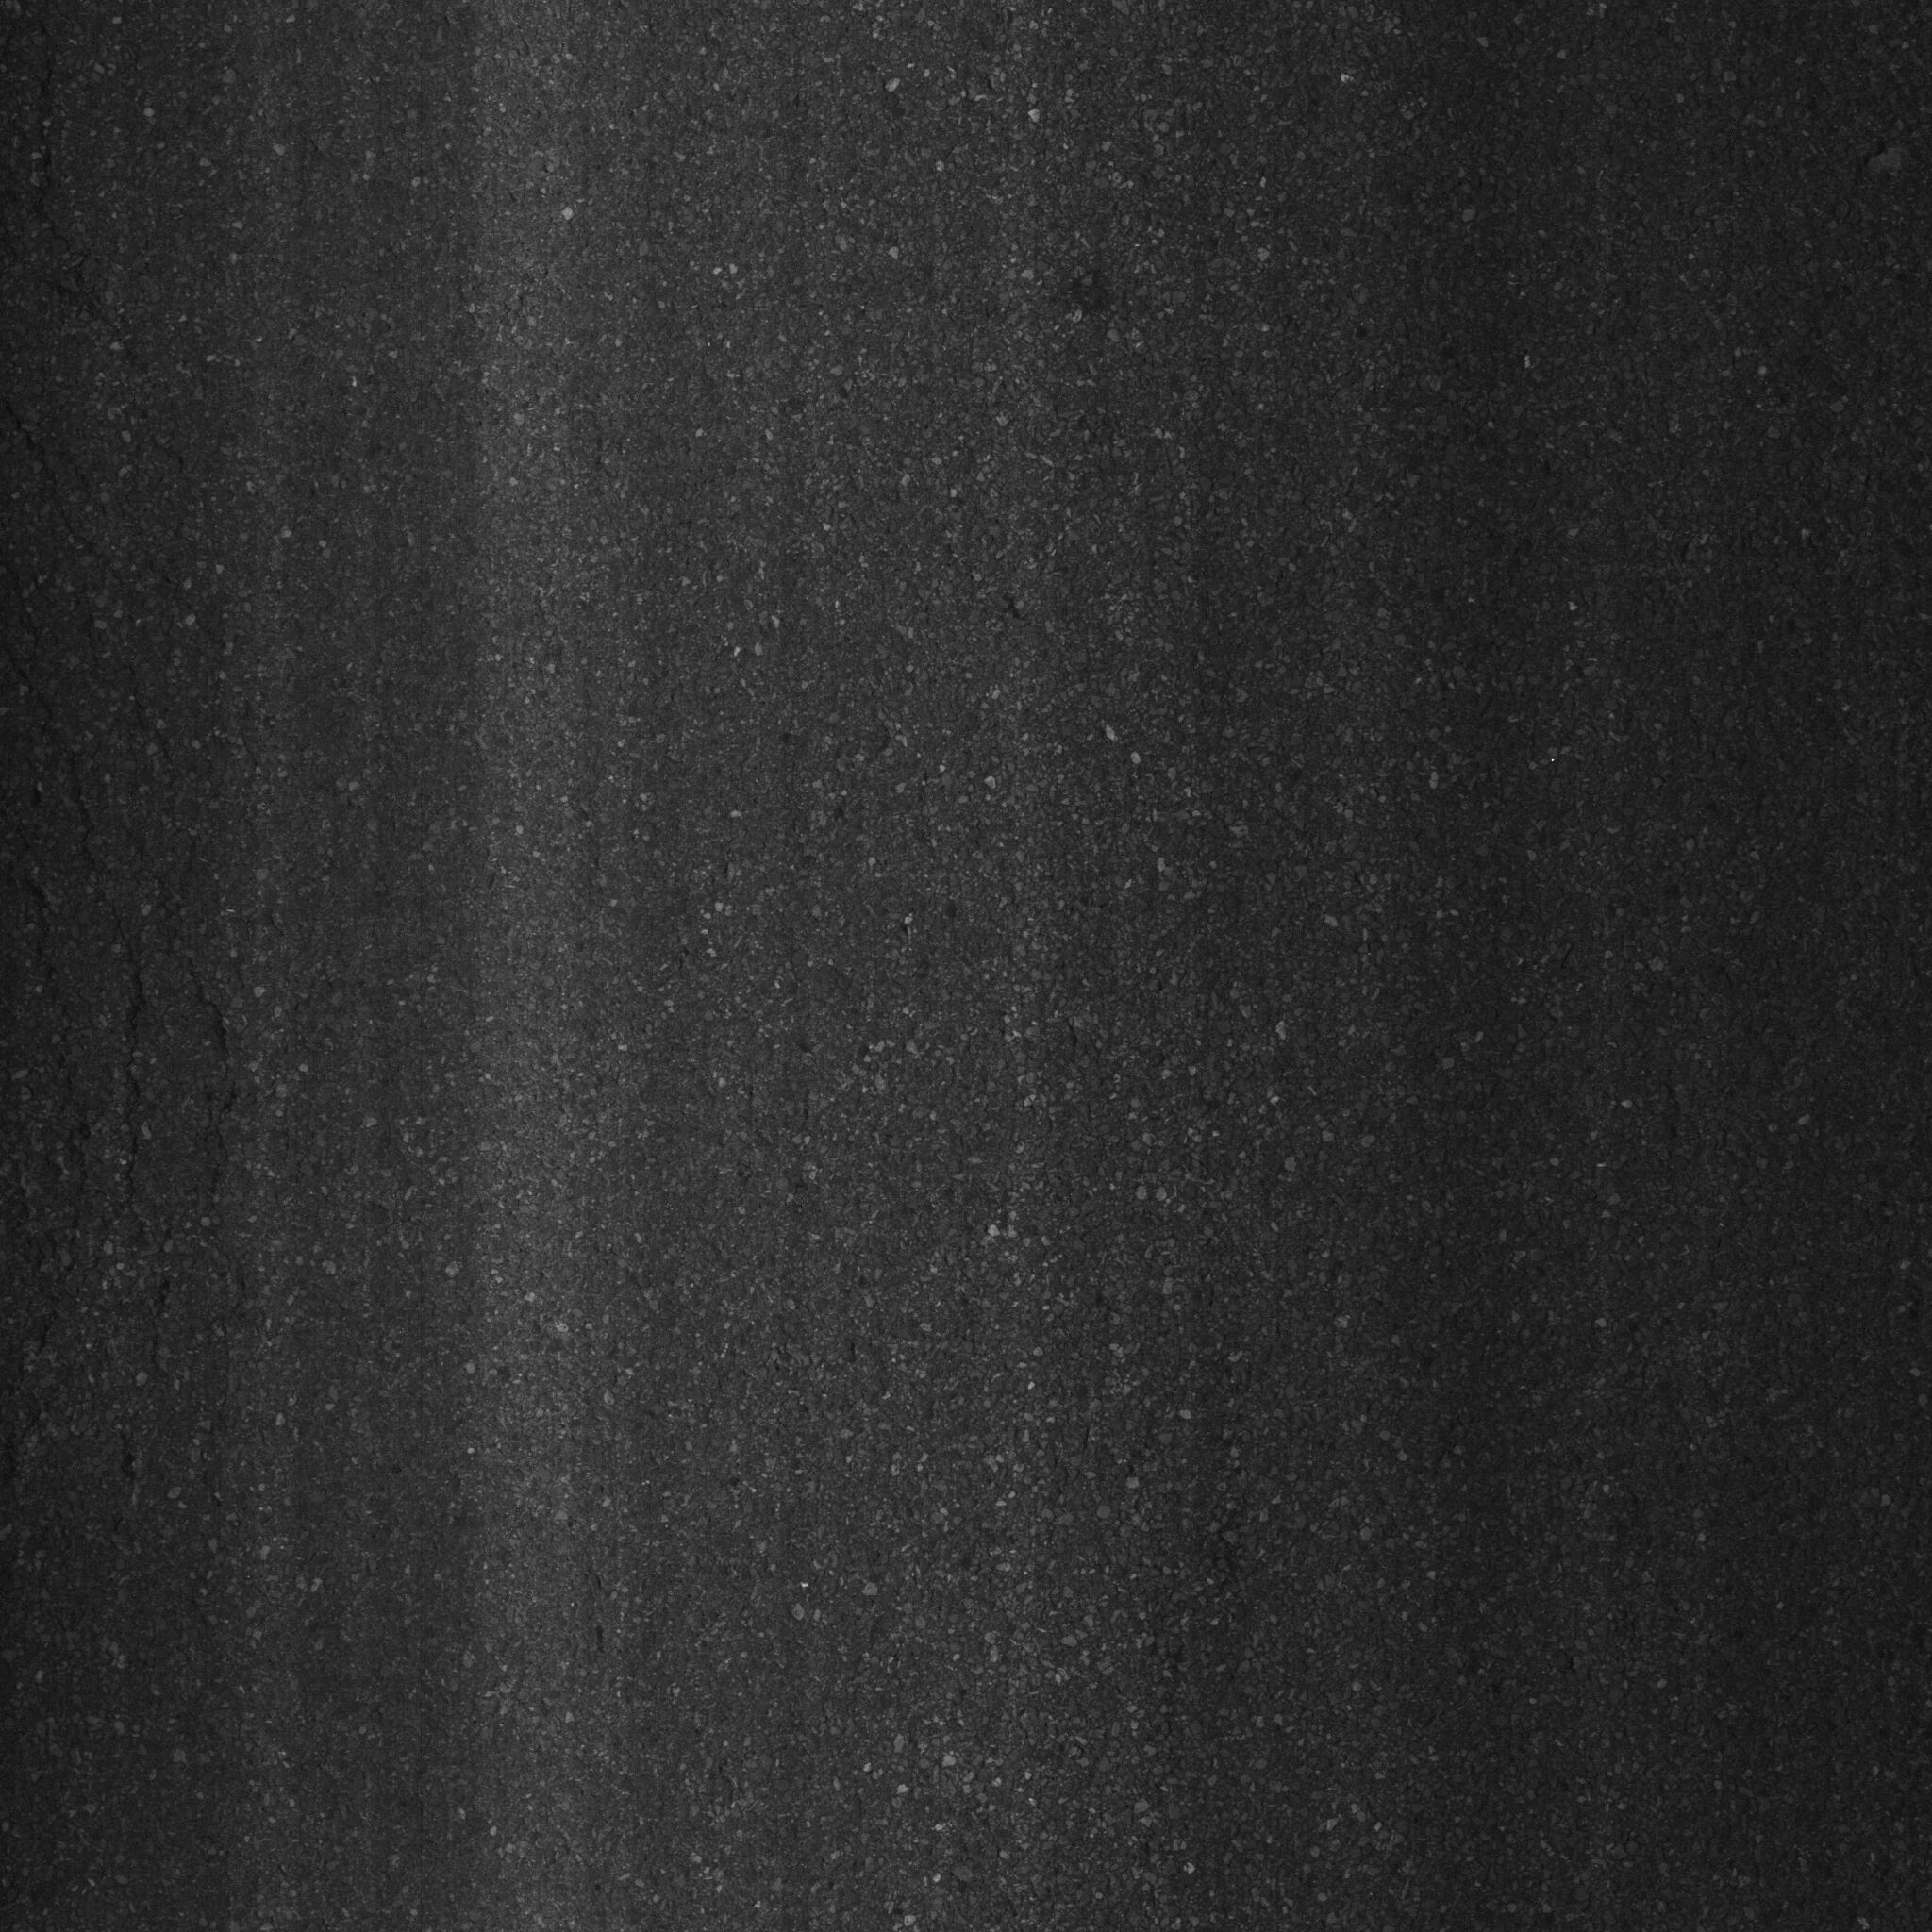longitudinal: (25, 419, 235, 1352)
